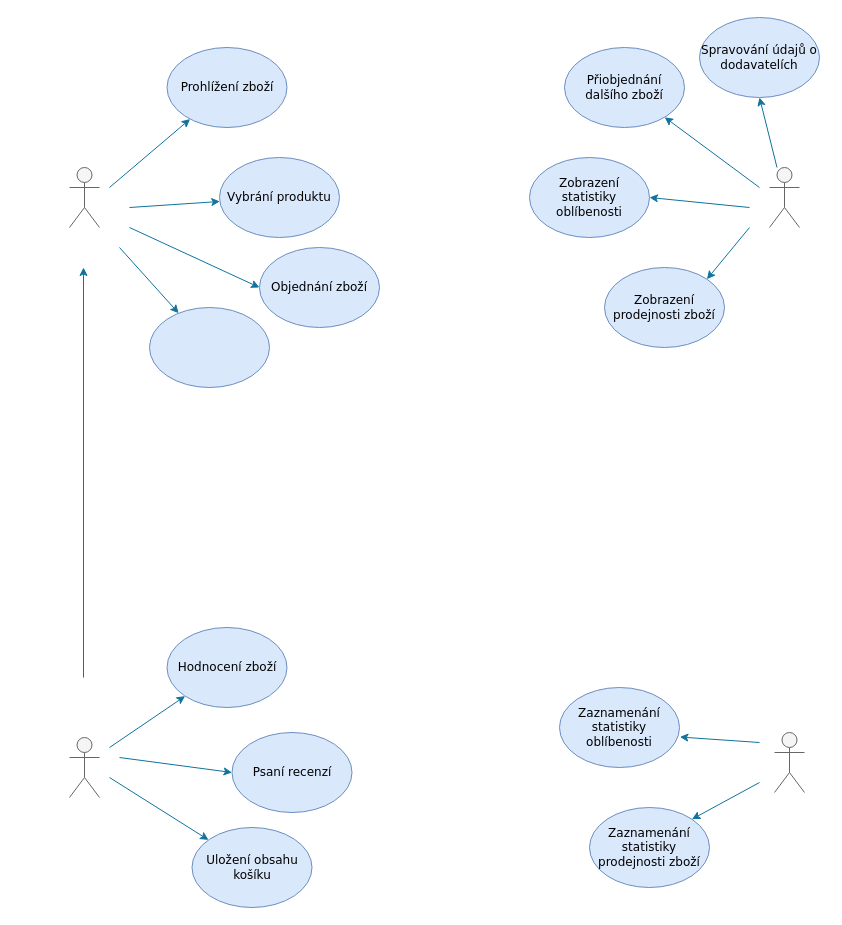
This 842x925 diagram has some shape labels left out. The shapes that lost their labels are listed below. From the top down, each one's centre as x and y in pixels, then its label:
At point (84, 197): "Návštěvník".
At point (784, 197): "Zaměstnanec".
At point (209, 347): "Spravovat obsah košíku".
At point (84, 767): "Registrovaný zákazník".
At point (789, 762): "Čas".
